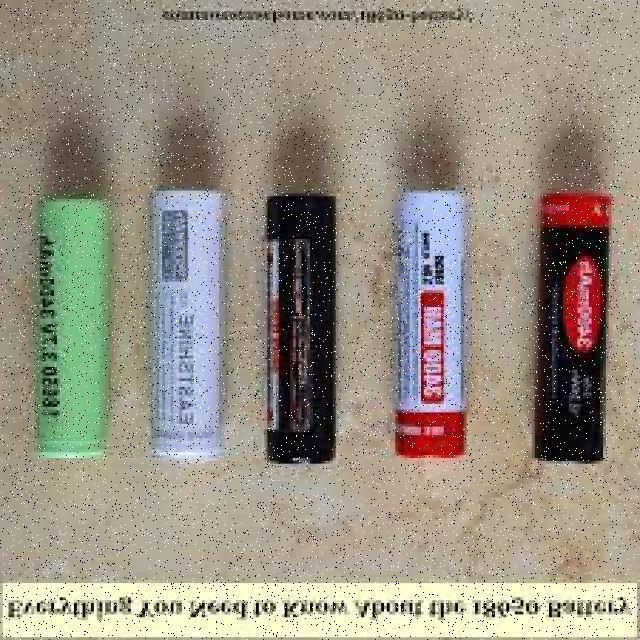AAA: (534, 190, 611, 461), (148, 188, 225, 459), (393, 187, 467, 457), (34, 195, 109, 460), (265, 193, 335, 463)
